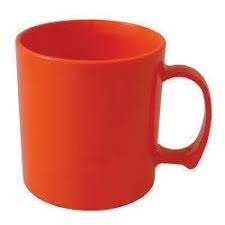cup: (8, 14, 215, 212)
